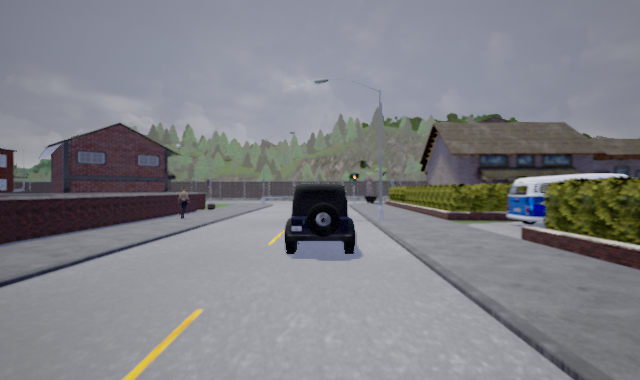pedestrian: (174, 185, 192, 219)
vehicle: (506, 173, 640, 226), (282, 183, 358, 256)
